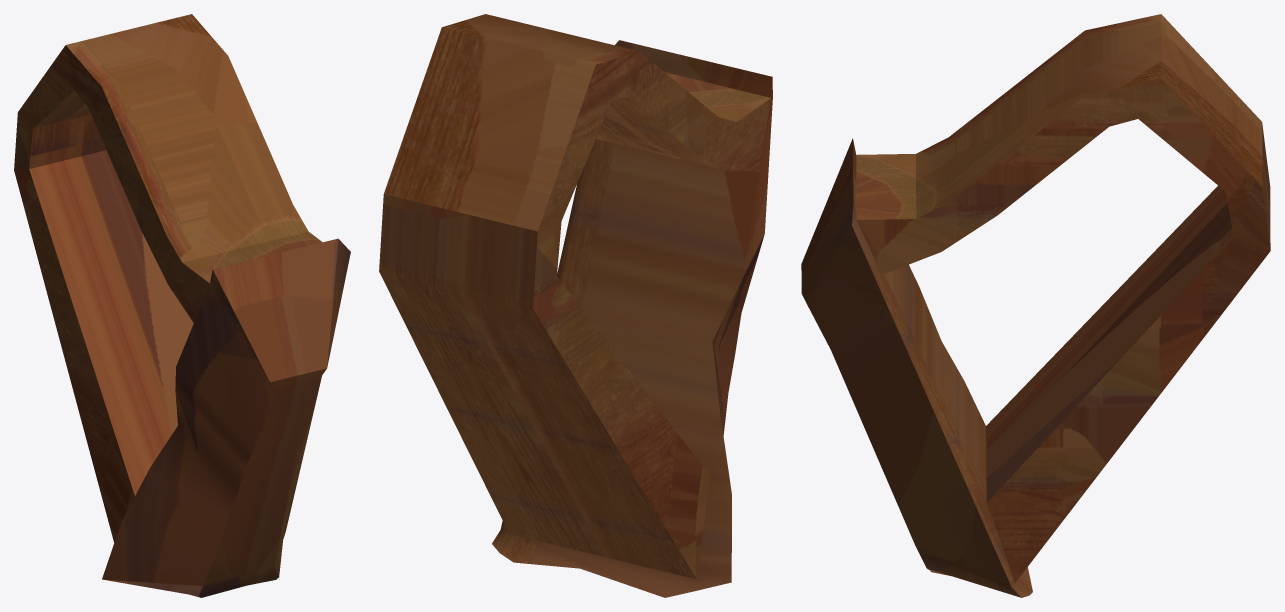
Rendered from brokebottle2-6.fbx.
The picture shows the model from 3 angles, left to right: view 1: azimuth 30°, elevation 25°; view 2: azimuth 150°, elevation 25°; view 3: azimuth 270°, elevation 25°; orthographic projection. The views are drawn at different scales.
Visible parts, largest first — view 1: polySurface18; view 2: polySurface18; view 3: polySurface18.
Part boxes in pixels (x1,y1,x2,y2): polySurface18: (14,14,350,597); polySurface18: (379,14,772,597); polySurface18: (801,14,1270,597).
Bounding box in the file's own units: 5.51 × 13.5 × 11.21.
